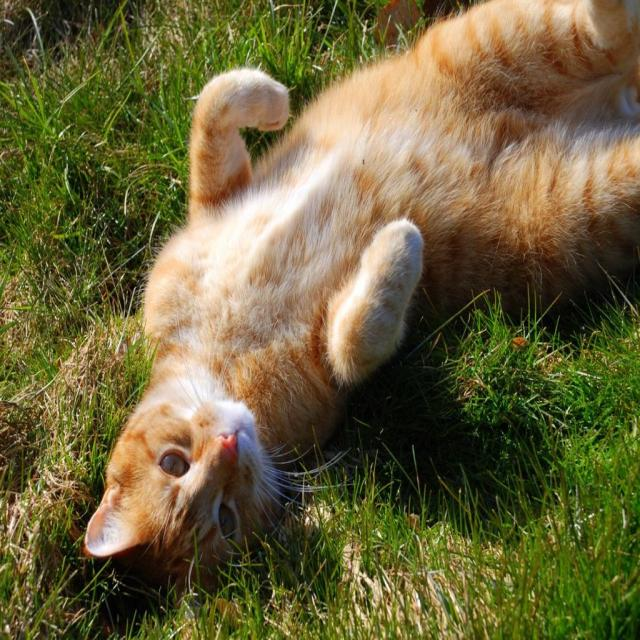Cat: (73, 0, 638, 608)
